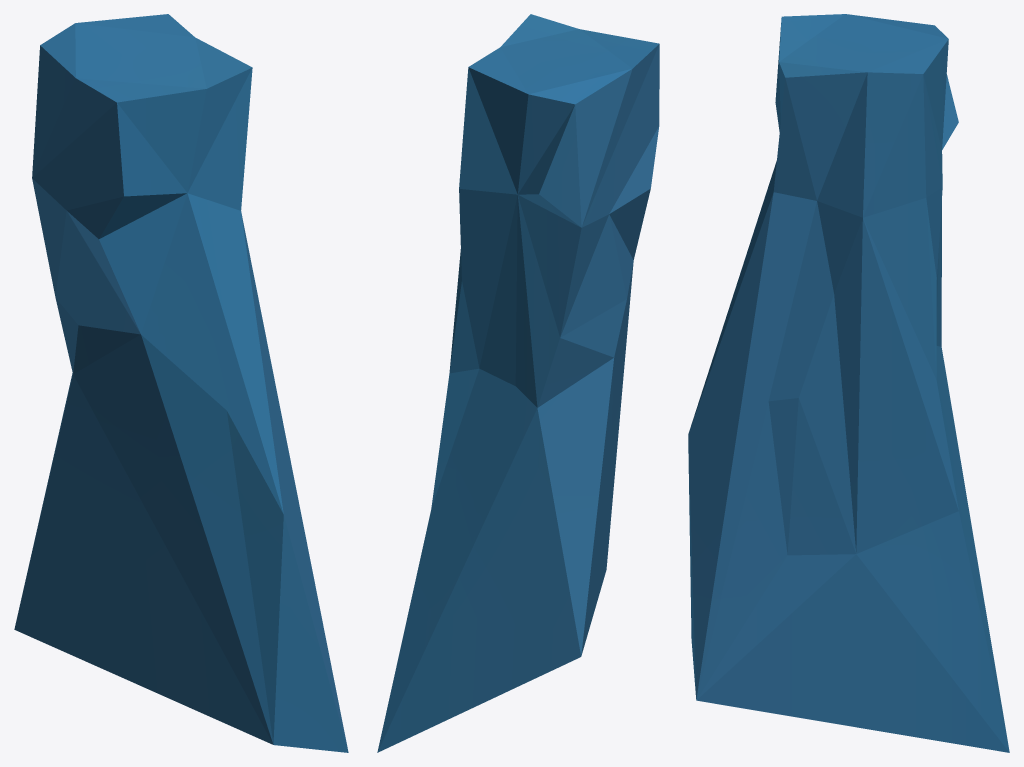
Rendered from sp_rock07.glb.
The picture shows the model from 3 angles, left to right: view 1: azimuth 30°, elevation 25°; view 2: azimuth 150°, elevation 25°; view 3: azimuth 270°, elevation 25°; orthographic projection. The views are drawn at different scales.
Parts seen in each view (by area): view 1: SP_Rock07; view 2: SP_Rock07; view 3: SP_Rock07.
Boxes of the visible parts, x1,y1,x2,y2 form: SP_Rock07: (14, 14, 348, 752); SP_Rock07: (377, 14, 659, 752); SP_Rock07: (688, 14, 1009, 752).
Bounding box in the file's own units: 116 × 413 × 183.
Materials: 1 (1 with a texture image).
